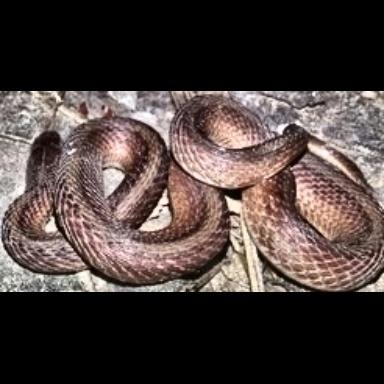snake: (2, 93, 384, 291)
